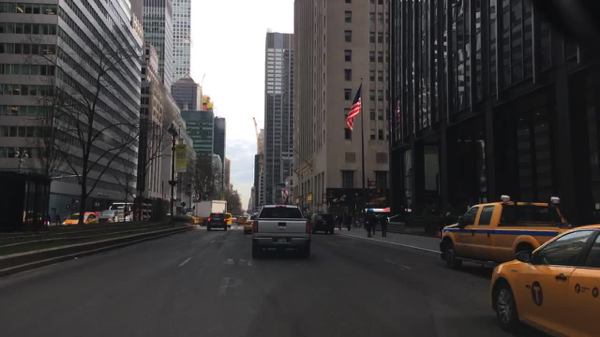car: (489, 224, 599, 337), (59, 208, 97, 228), (308, 214, 335, 236), (206, 213, 229, 231), (242, 213, 258, 235), (21, 212, 43, 228), (99, 213, 116, 225), (235, 217, 246, 226), (230, 216, 235, 227)
person: (363, 211, 372, 239), (380, 214, 389, 238), (372, 213, 378, 235), (345, 212, 352, 230), (335, 212, 341, 229)
traffic light: (266, 184, 269, 193), (205, 189, 207, 197)
traffic sign: (369, 181, 377, 185), (315, 203, 322, 206)
truck: (438, 193, 573, 269), (250, 203, 312, 260), (191, 200, 227, 219), (110, 201, 136, 221)
